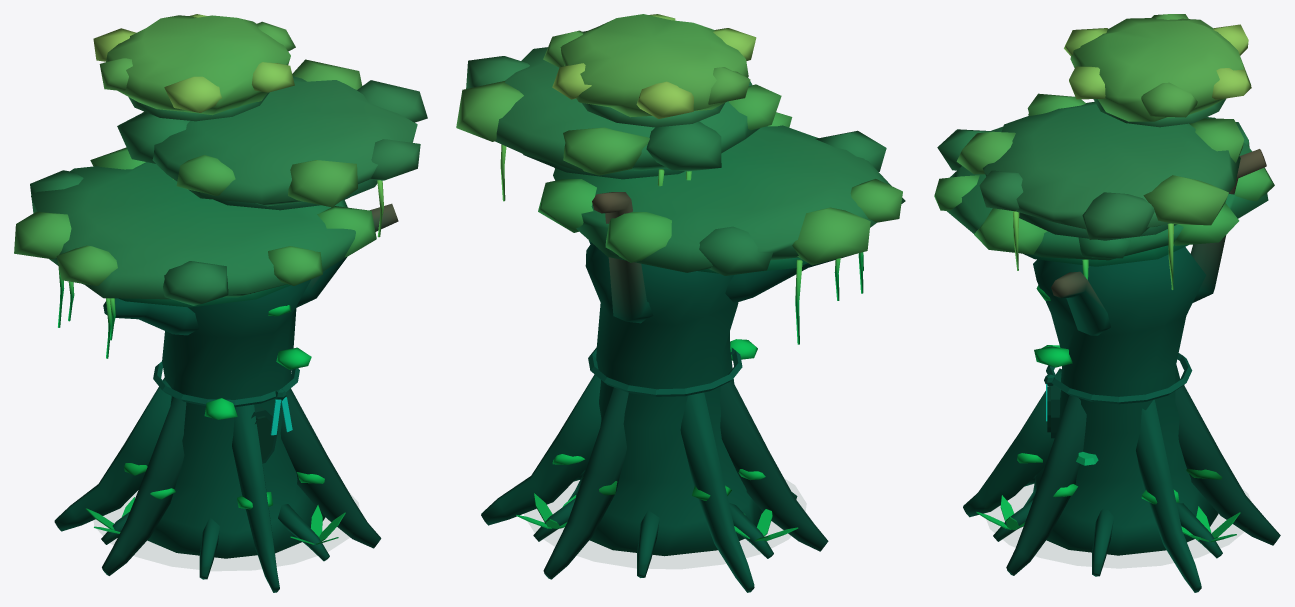
The model's file is standing_tree.glb.
The picture shows the model from 3 angles, left to right: view 1: azimuth 30°, elevation 25°; view 2: azimuth 150°, elevation 25°; view 3: azimuth 270°, elevation 25°; orthographic projection. The views are drawn at different scales.
Visible parts, largest first — view 1: standing_tree; view 2: standing_tree; view 3: standing_tree.
Boxes of the visible parts, x1,y1,x2,y2 form: standing_tree: (14, 14, 427, 592); standing_tree: (456, 14, 905, 592); standing_tree: (934, 14, 1280, 592).
Size of the model in its own units: 5.03 by 5.91 by 3.83.
